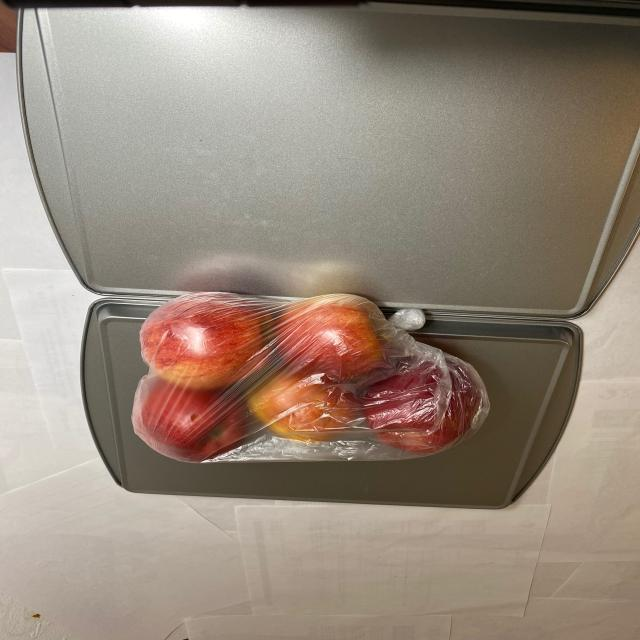apple: (132, 295, 492, 465)
